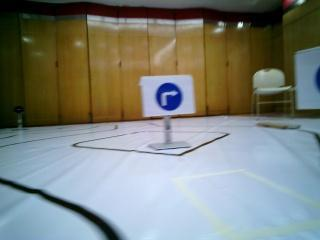right: (141, 77, 194, 112), (292, 51, 320, 111)
